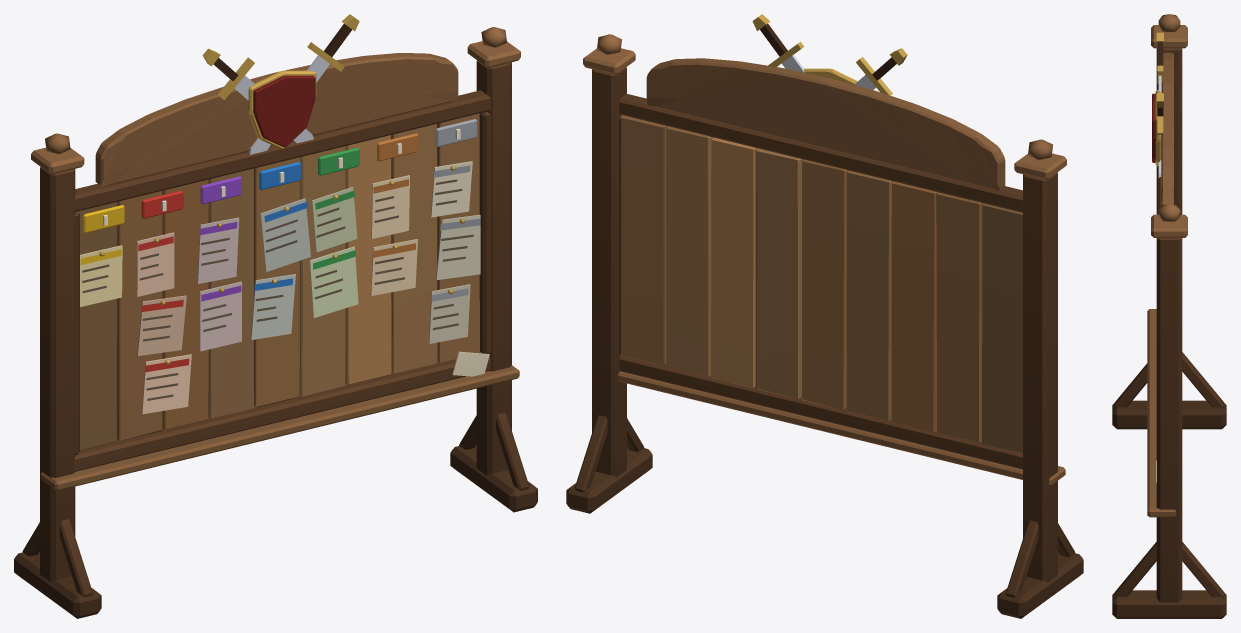
Rendered from guild_board.glb.
The picture shows the model from 3 angles, left to right: view 1: azimuth 30°, elevation 25°; view 2: azimuth 150°, elevation 25°; view 3: azimuth 270°, elevation 25°; orthographic projection. The views are drawn at different scales.
Visible parts, largest first — view 1: GuildBoard; view 2: GuildBoard; view 3: GuildBoard.
Part boxes in pixels (left/top/right/bottom): GuildBoard: left=14, top=14, right=537, bottom=618; GuildBoard: left=566, top=14, right=1083, bottom=618; GuildBoard: left=1112, top=14, right=1226, bottom=618.
Bounding box in the file's own units: 2.64 × 2.74 × 0.62.
